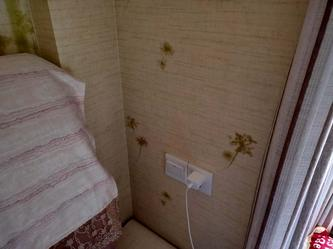switch: (164, 158, 186, 180)
